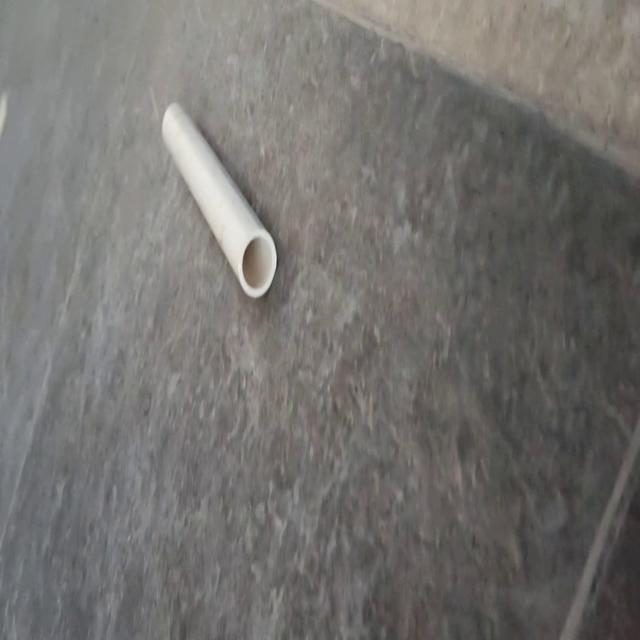Cube: (160, 98, 278, 300)
